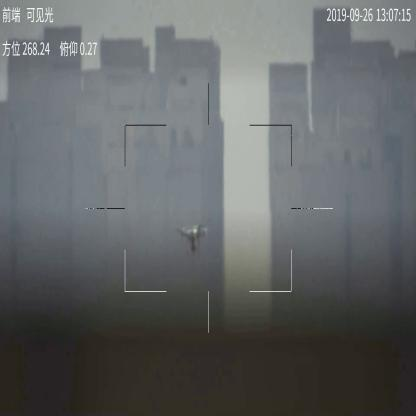uav: (175, 224, 209, 254)
